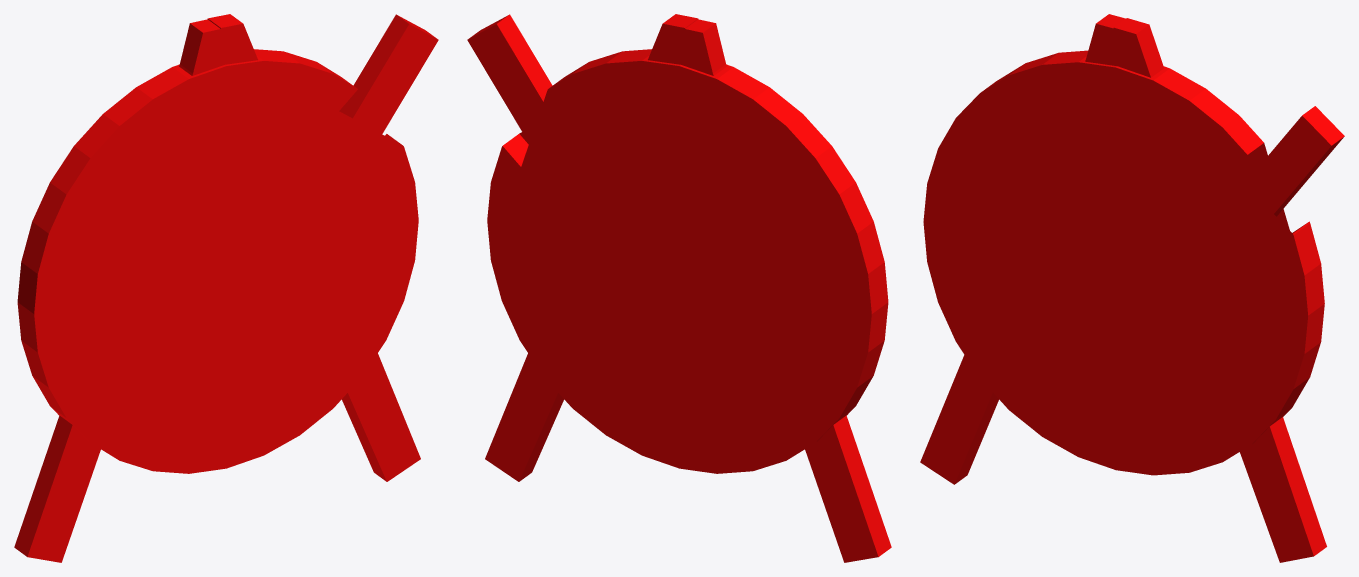
Rendered from ax-triangulated.obj.
The picture shows the model from 3 angles, left to right: view 1: azimuth 30°, elevation 25°; view 2: azimuth 150°, elevation 25°; view 3: azimuth 330°, elevation 25°; orthographic projection.
Size of the model in its own units: 3.67 by 4.23 by 0.2572.
